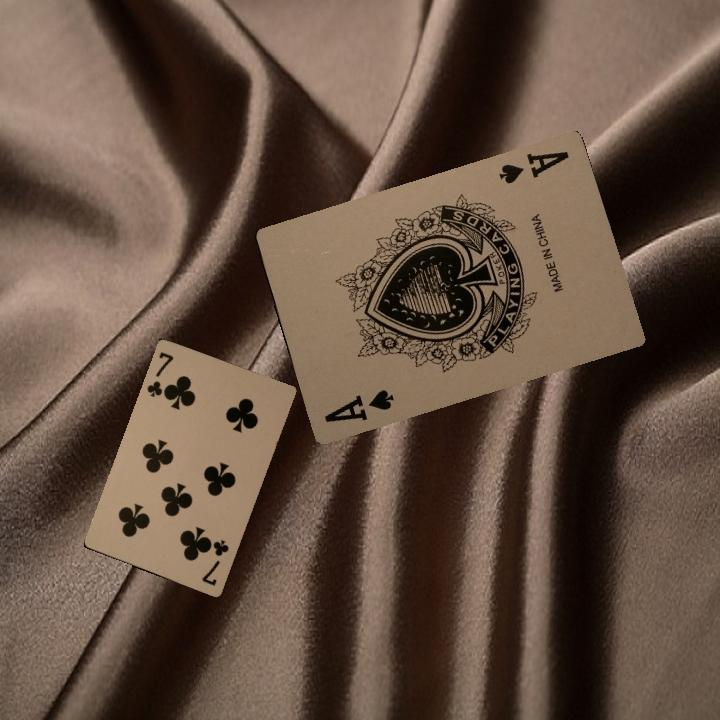7c: (197, 536, 231, 588), (143, 348, 176, 400)
As: (320, 385, 396, 425), (496, 147, 572, 187)
